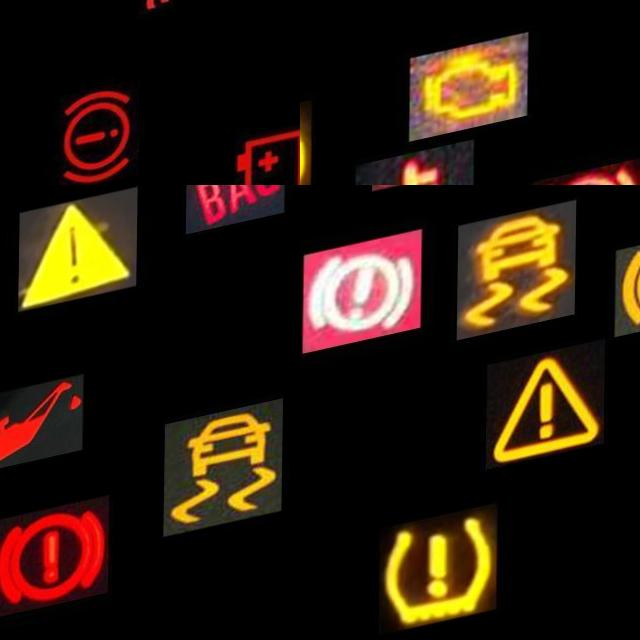Central Warning lamp: (487, 354, 606, 480), (19, 195, 138, 315)
